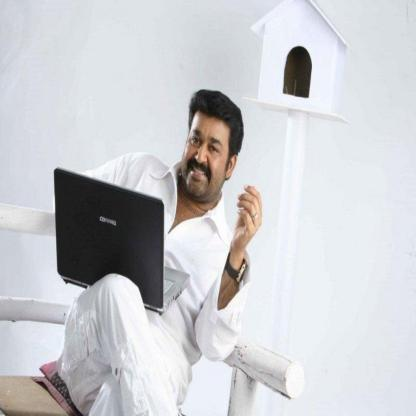board: (50, 182, 182, 312)
